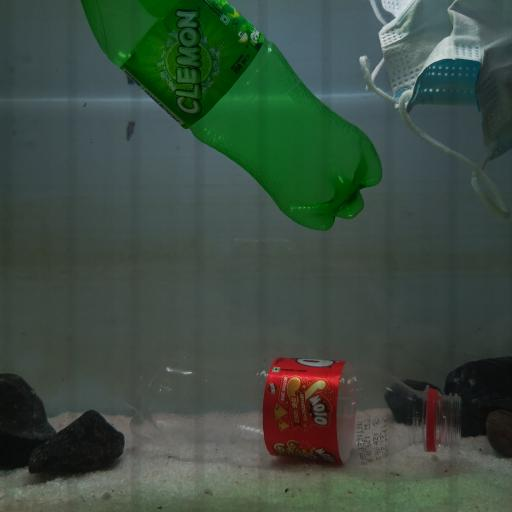mask: (358, 0, 512, 217)
plastic_bottle: (79, 0, 384, 233), (122, 357, 460, 462)
